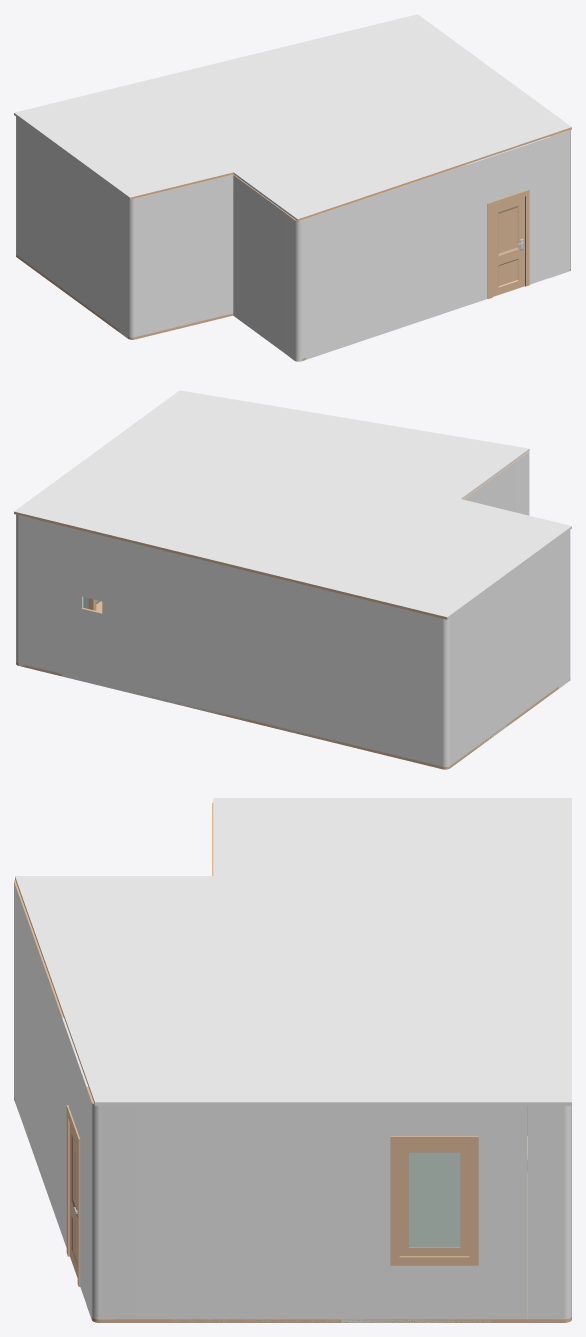
The model's file is room.fbx.
3 renders of one model, top to bottom at view 1: azimuth 30°, elevation 25°; view 2: azimuth 150°, elevation 25°; view 3: azimuth 270°, elevation 25°, orthographic. The views are drawn at different scales.
Visible parts, largest first — view 1: Ceiling, walls.003, walls.006, walls.005, walls.004, wallDoorway, doorway.002, walls; view 2: Ceiling, walls.009, walls.006, walls.004, walls; view 3: Ceiling, walls.002, walls.003, wallDoorway, walls, doorway.002.
Part boxes in pixels (<box>): Ceiling: <box>14,14,571,221</box>; walls.003: <box>299,130,568,359</box>; walls.006: <box>16,117,128,338</box>; walls.005: <box>133,174,233,336</box>; walls.004: <box>233,174,295,360</box>; wallDoorway: <box>465,136,550,305</box>; doorway.002: <box>490,193,527,298</box>; walls: <box>128,130,570,361</box>; Ceiling: <box>14,390,571,619</box>; walls.009: <box>18,515,442,766</box>; walls.006: <box>448,530,569,766</box>; walls.004: <box>463,452,528,515</box>; walls: <box>16,451,570,766</box>; Ceiling: <box>15,798,571,1105</box>; walls.002: <box>93,1103,563,1322</box>; walls.003: <box>14,880,93,1318</box>; wallDoorway: <box>62,1017,88,1303</box>; walls: <box>91,1102,571,1319</box>; doorway.002: <box>67,1112,78,1285</box>.
Bounding box in the file's own units: 902 × 304 × 697.
